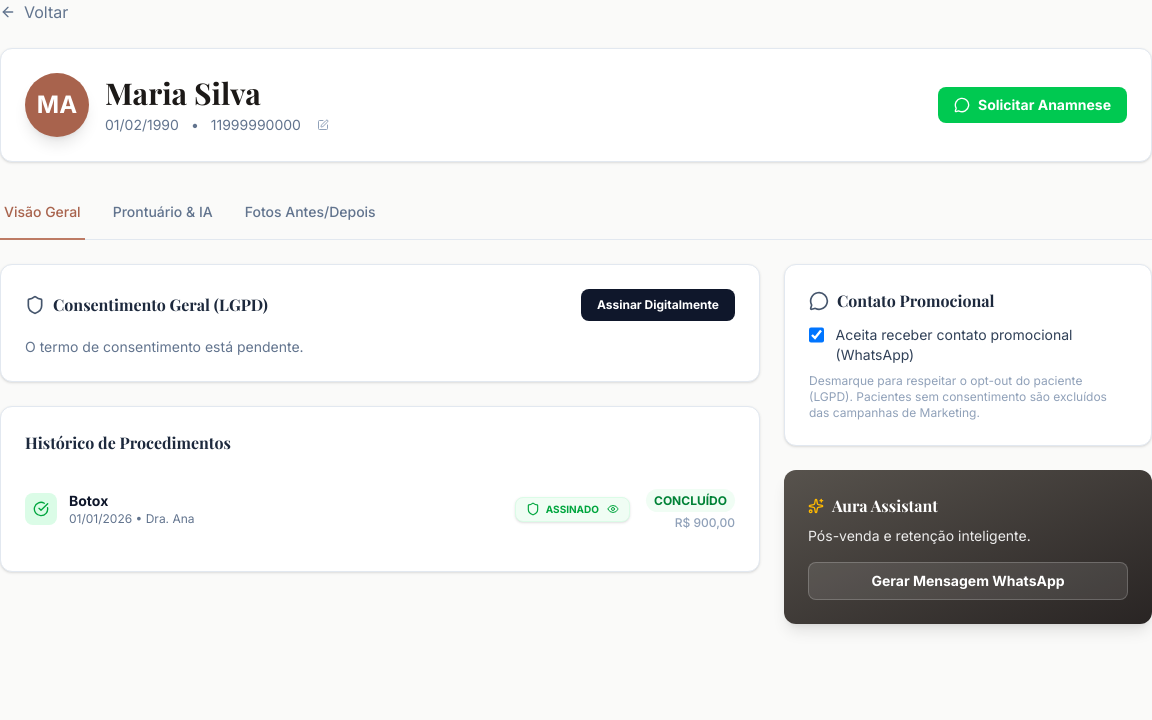
Test case: PatientDetail — modal "Comprovante Digital" cabe em telas baixas (mobile) › o card do comprovante tem altura máxima e o corpo rola, para o botão "Fechar" nunca ficar fora da viewport
The width and height of the screenshot is (1152, 720).
Click the button "Assinado" at (572, 509), box 515,496 -> 630,522
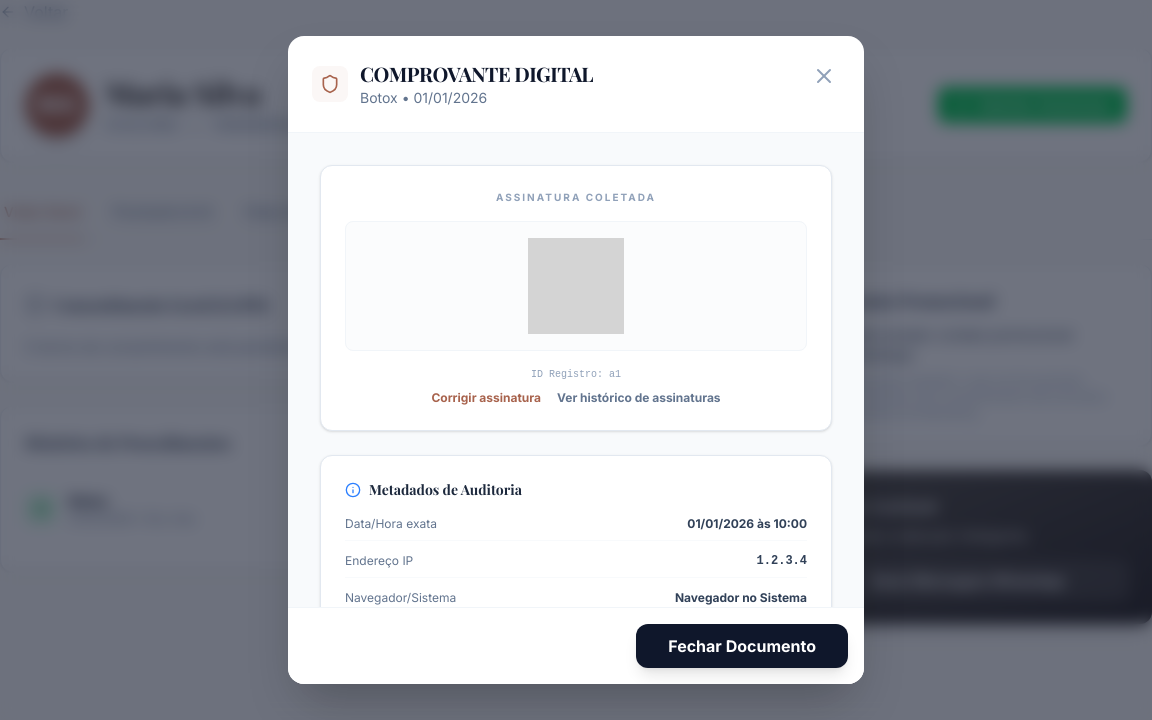
Expected: the element "Fechar Documento" is shown, 288,607 -> 864,684
Expected: the text "Assinatura Coletada" is shown, 496,191 -> 656,203
